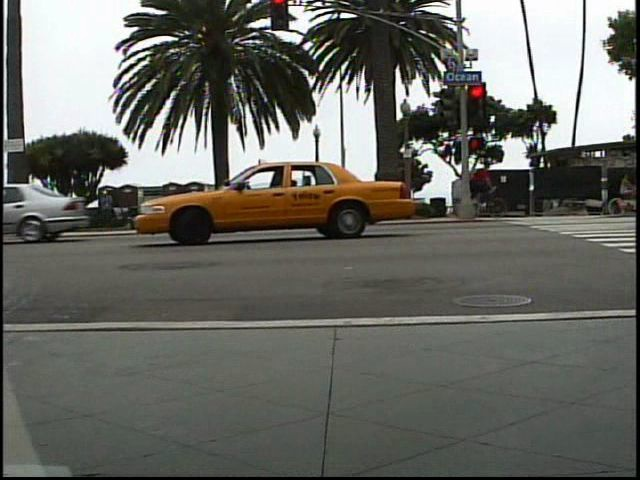person: (464, 157, 494, 213)
